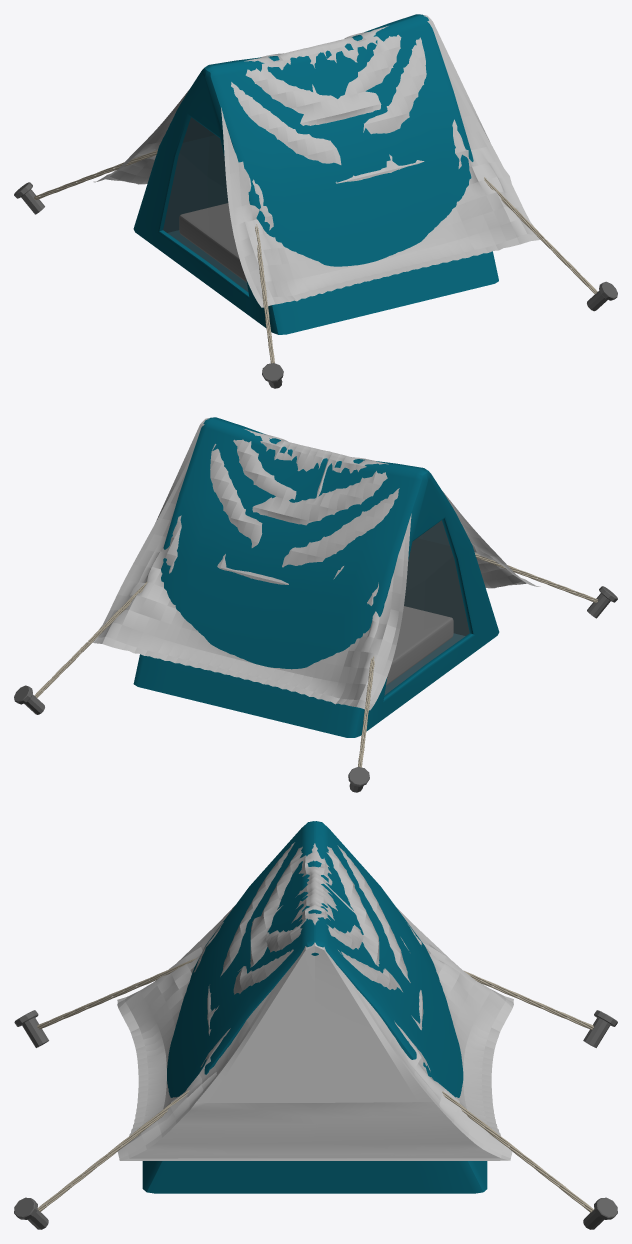
Rendered from tent_01.fbx.
3 renders of one model, top to bottom at view 1: azimuth 30°, elevation 25°; view 2: azimuth 150°, elevation 25°; view 3: azimuth 270°, elevation 25°, orthographic. The views are drawn at different scales.
Parts seen in each view (by area): view 1: tent_01_model, tent_01_cloth_model, tent_01_mattress, cuerda2, cuerda1, cuerda; view 2: tent_01_model, tent_01_cloth_model, tent_01_mattress, cuerda3, cuerda1, cuerda; view 3: tent_01_cloth_model, tent_01_model, cuerda3, cuerda2, cuerda1, cuerda, clavo2, clavo1, clavo, clavo3.
Boxes of the visible parts, x1,y1,x2,y2 form: tent_01_model: (133,14,498,334); tent_01_cloth_model: (93,15,539,307); tent_01_mattress: (179,203,246,282); cuerda2: (484,177,597,293); cuerda1: (255,224,274,363); cuerda: (34,149,157,199); tent_01_model: (133,417,499,737); tent_01_cloth_model: (93,418,540,710); tent_01_mattress: (386,606,453,685); cuerda3: (34,581,147,697); cuerda1: (475,553,597,602); cuerda: (358,656,374,767); tent_01_cloth_model: (117,842,513,1160); tent_01_model: (142,821,487,1193); cuerda3: (442,1091,593,1212); cuerda2: (37,1090,189,1211); cuerda1: (37,957,197,1029); cuerda: (463,970,593,1029); clavo2: (14,1197,48,1229); clavo1: (583,1197,617,1229); clavo: (583,1010,617,1047); clavo3: (14,1010,48,1047).
Bounding box in the file's own units: 5.38 × 3.22 × 6.84.
